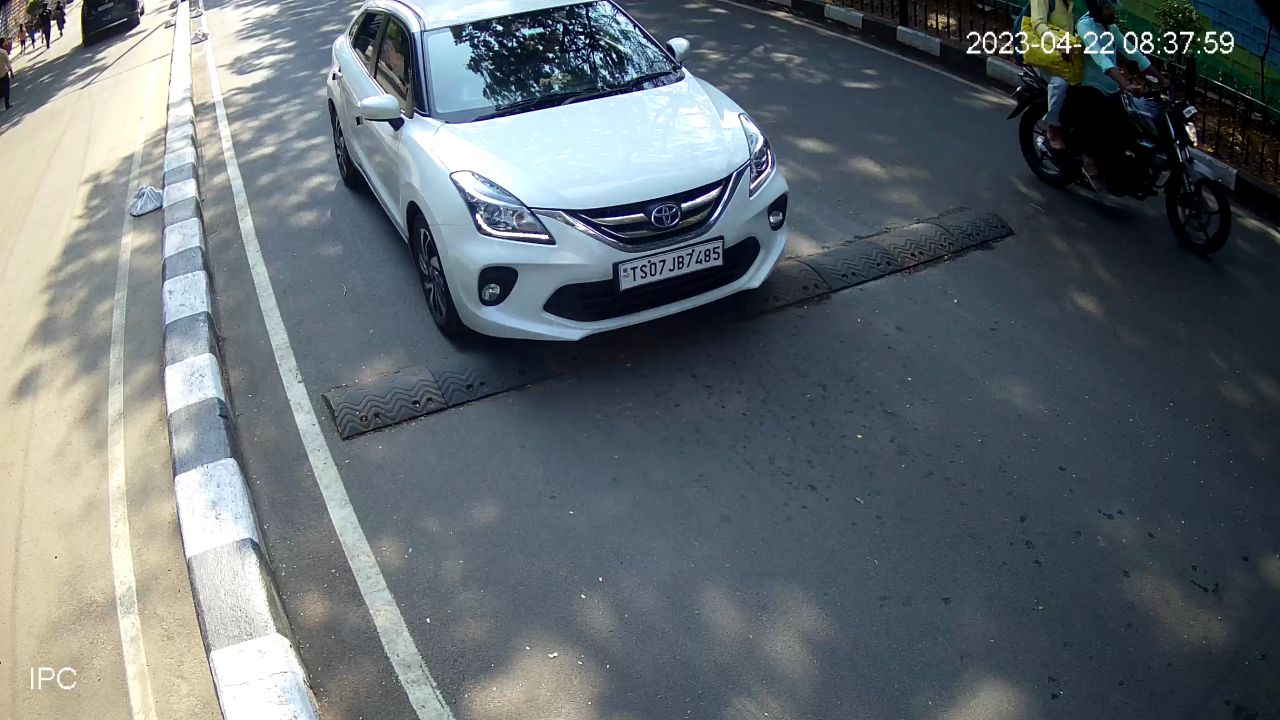license_plate: (609, 229, 729, 303)
